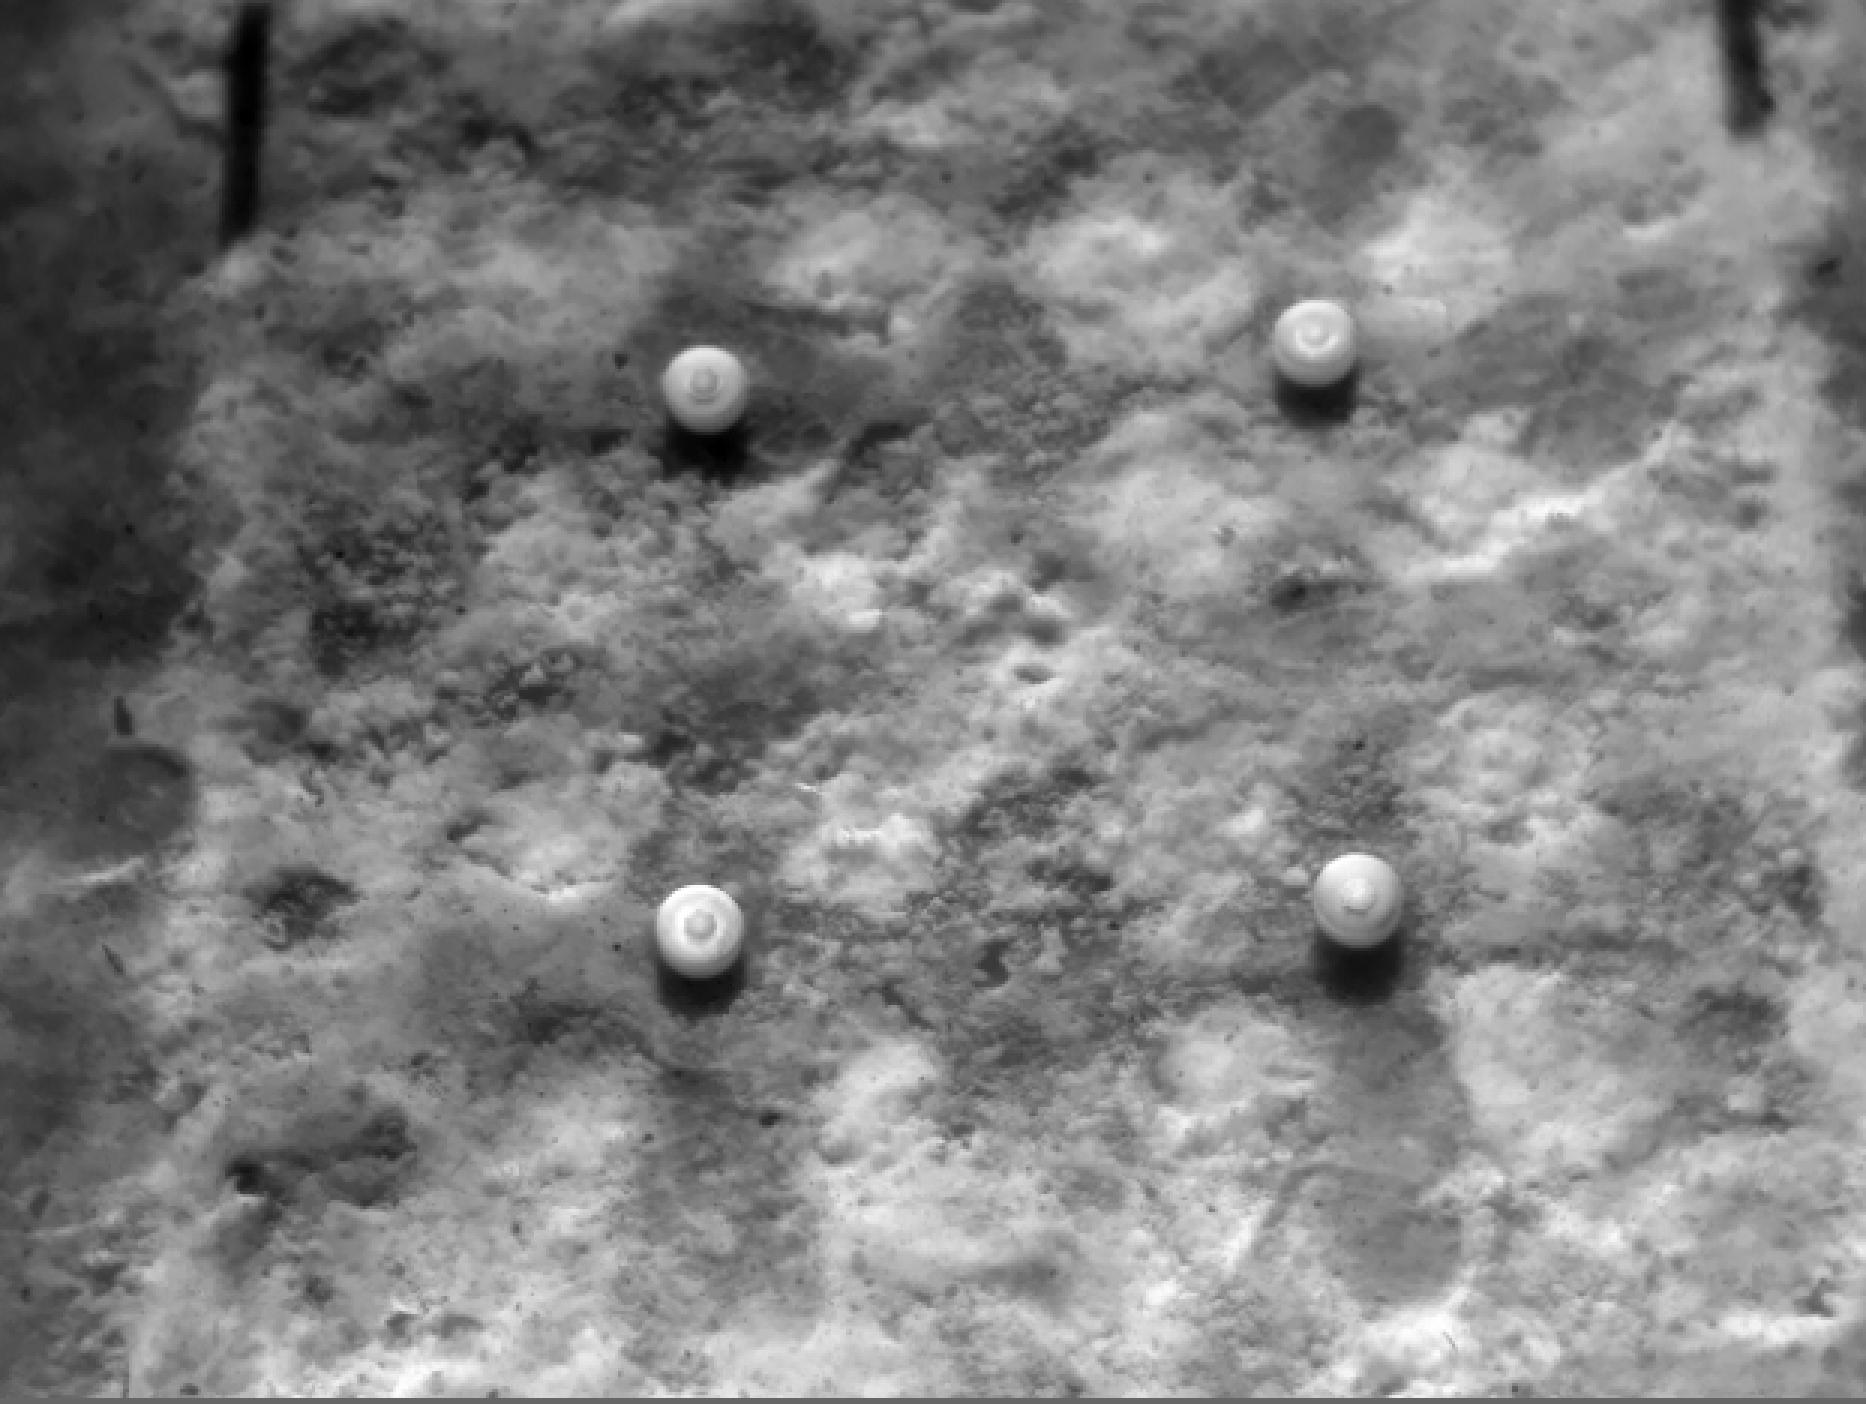mines-gjV8: (1314, 848, 1412, 954), (662, 866, 743, 987), (662, 342, 757, 437), (1282, 295, 1363, 397)
